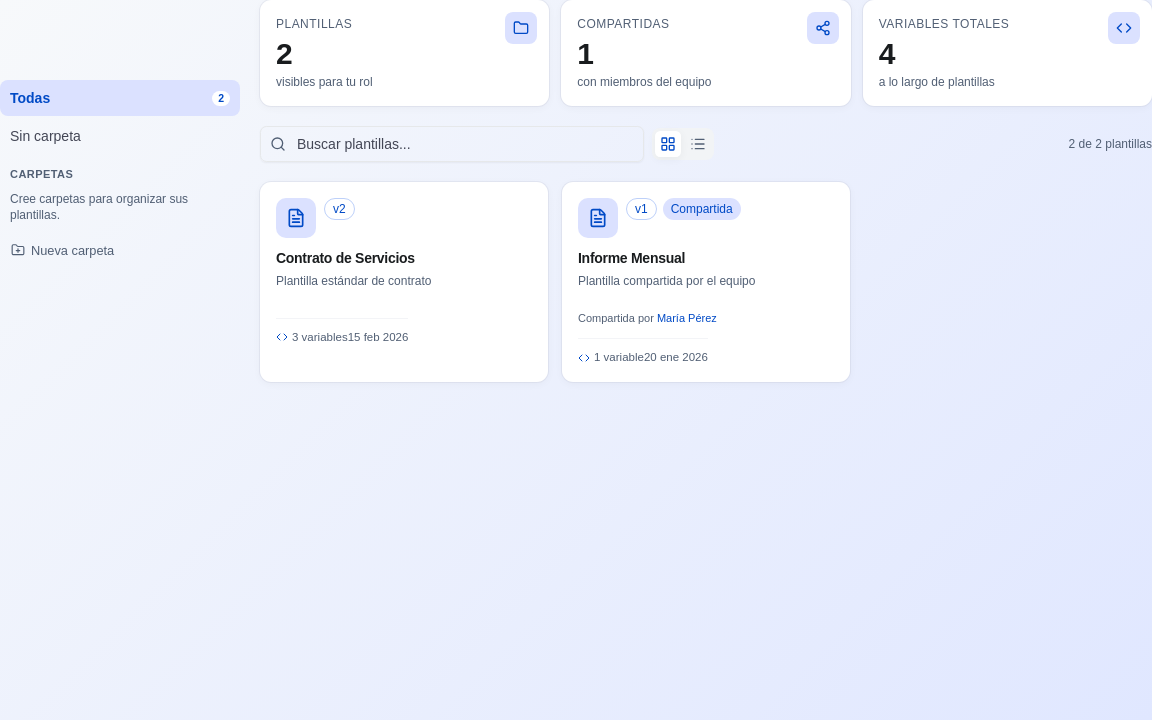
Test case: TemplateList — view mode toggle › switches from cards to table and back, persisting the choice to localStorage
This screenshot has width=1152, height=720.
Check: the heading "Contrato de Servicios" is shown, box [276,250,431,268]
Click the button named "vista de tabla": point(698, 144) [684,130,712,158]
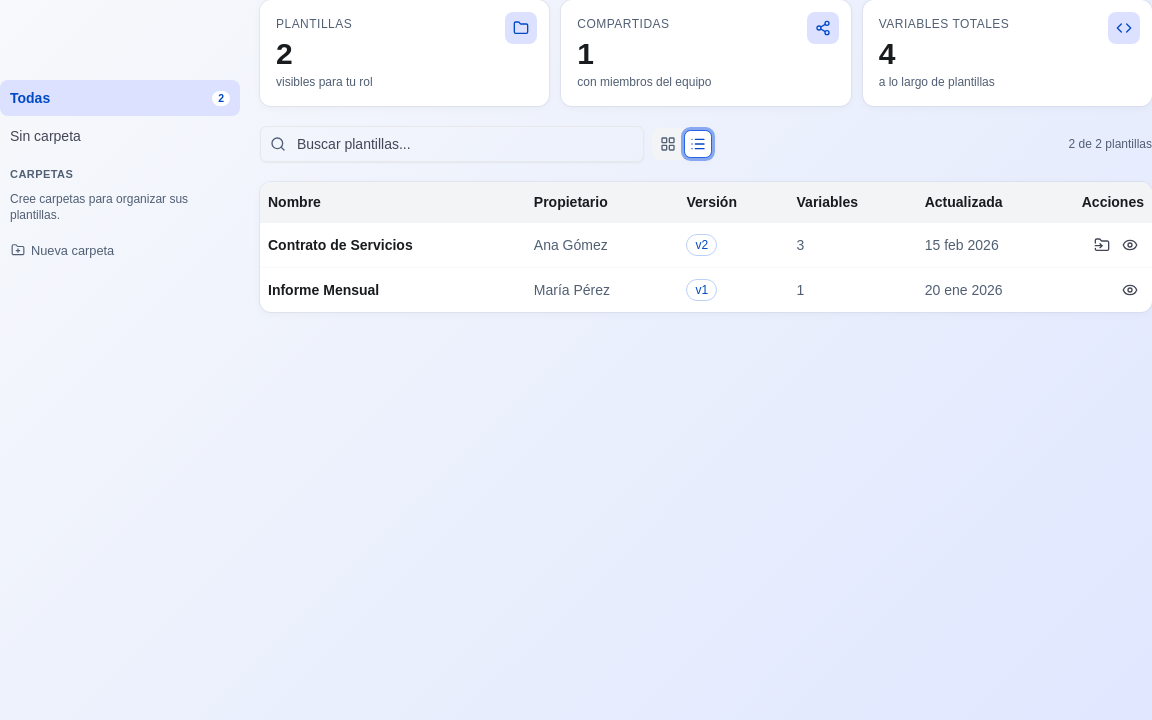
Check: the table is shown, box [260,182,1151,312]
Click the button named "vista de tarjetas": point(668, 144) [654,130,682,158]
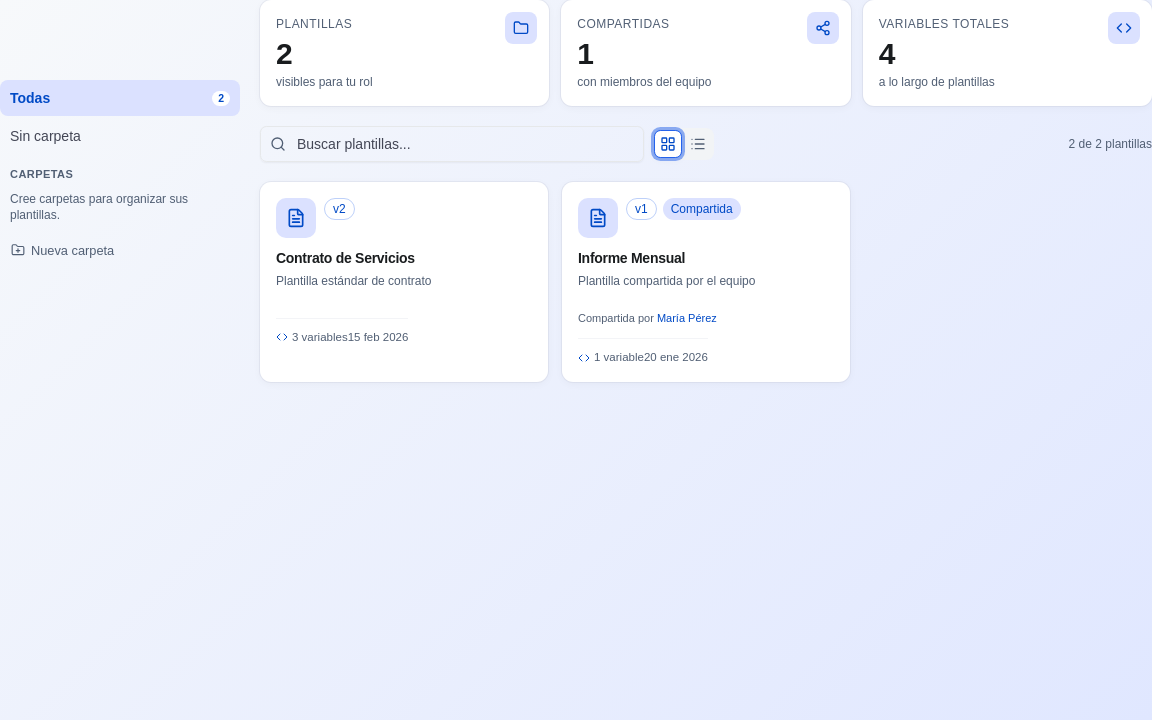
Check: the table is gone
